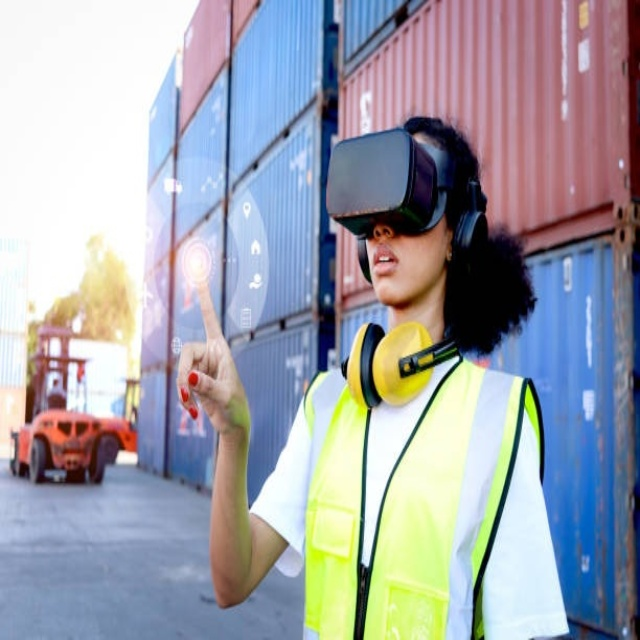Sin_guantes: (174, 276, 248, 437)
Sin_mascara: (364, 235, 408, 298)
